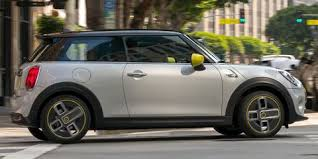car: (10, 26, 309, 156)
